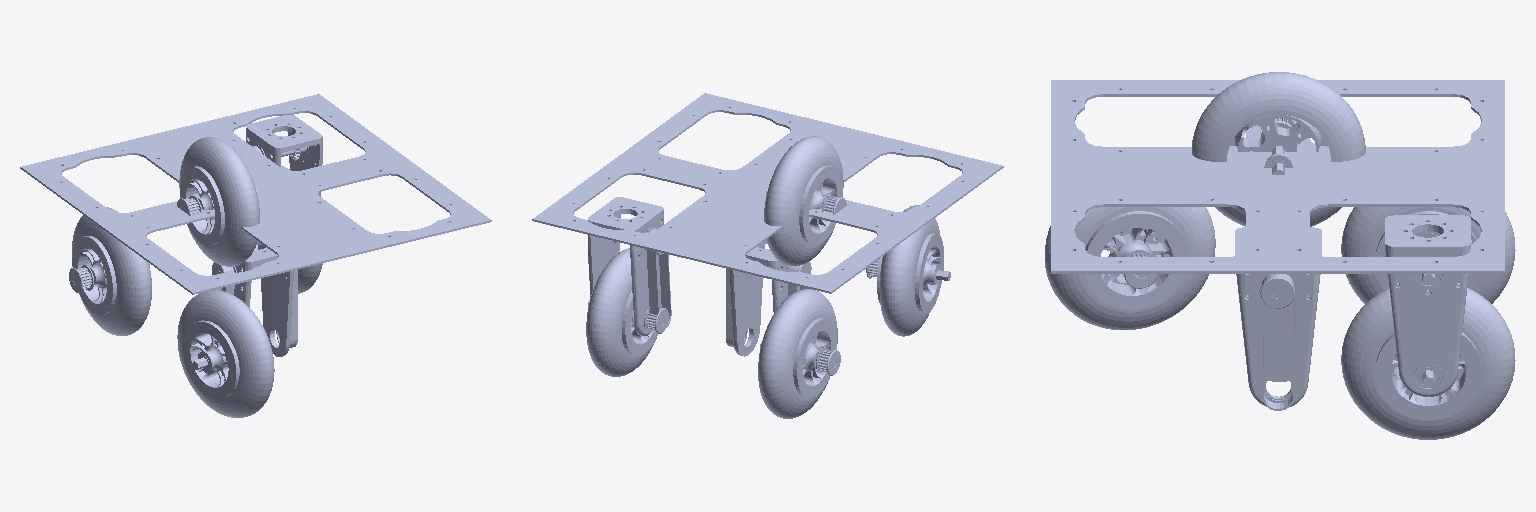
robot.urdf — hermes_robot:
<?xml version="1.0" encoding="utf-8"?>
<!-- This URDF was automatically created by SolidWorks to URDF Exporter! Originally created by [author] ([email redacted]) 
     Commit Version: 1.6.0-4-g7f85cfe  Build Version: 1.6.7995.38578
     For more information, please see http://wiki.ros.org/sw_urdf_exporter -->
<robot
  name="hermes_robot">
  <link
    name="base_link">
    <inertial>
      <origin
        xyz="-0.000556181803337466 0.000570937752360604 0.0435789551996021"
        rpy="0 0 0" />
      <mass
        value="5.7729702362968" />
      <inertia
        ixx="0.0261442275560952"
        ixy="2.83374260607611E-06"
        ixz="3.54056280145004E-10"
        iyy="0.0219026114445638"
        iyz="-3.69571892989752E-09"
        izz="0.0462053263639469" />
    </inertial>
    <visual>
      <origin
        xyz="0 0 0"
        rpy="0 0 0" />
      <geometry>
        <mesh
          filename="package://hermes_robot/meshes/base_link.STL" />
      </geometry>
      <material
        name="">
        <color
          rgba="0.792156862745098 0.819607843137255 0.933333333333333 1" />
      </material>
    </visual>
    <collision>
      <origin
        xyz="0 0 0"
        rpy="0 0 0" />
      <geometry>
        <mesh
          filename="package://hermes_robot/meshes/base_link.STL" />
      </geometry>
    </collision>
  </link>
  <link
    name="Drive1">
    <inertial>
      <origin
        xyz="-0.1420725891101 -0.162134622350807 -0.156070154760362"
        rpy="0 0 0" />
      <mass
        value="0.968782085796601" />
      <inertia
        ixx="0.00424819090788287"
        ixy="0.000405658975873631"
        ixz="-1.33753498051603E-07"
        iyy="0.00239940264366684"
        iyz="5.40490091912558E-08"
        izz="0.00231372951894429" />
    </inertial>
    <visual>
      <origin
        xyz="0 0 0"
        rpy="0 0 0" />
      <geometry>
        <mesh
          filename="package://hermes_robot/meshes/Drive1.STL" />
      </geometry>
      <material
        name="">
        <color
          rgba="0.792156862745098 0.819607843137255 0.933333333333333 1" />
      </material>
    </visual>
    <collision>
      <origin
        xyz="0 0 0"
        rpy="0 0 0" />
      <geometry>
        <mesh
          filename="package://hermes_robot/meshes/Drive1.STL" />
      </geometry>
    </collision>
  </link>
  <joint
    name="Drive1"
    type="continuous">
    <origin
      xyz="0 0 0"
      rpy="0 0 0" />
    <parent
      link="base_link" />
    <child
      link="Drive1" />
    <axis
      xyz="0.97870110149261 0.205290413651375 0" />
    <limit
      lower="0"
      upper="0"
      effort="0"
      velocity="0" />
  </joint>
  <link
    name="Revolve1">
    <inertial>
      <origin
        xyz="-0.141466084457788 -0.161853031131481 -0.0656290075223259"
        rpy="0 0 0" />
      <mass
        value="0.269967968577388" />
      <inertia
        ixx="0.000823214345411263"
        ixy="-2.93067371662363E-05"
        ixz="1.97986047317922E-07"
        iyy="0.000956776012547063"
        iyz="-1.17541609043327E-06"
        izz="0.000432509071635242" />
    </inertial>
    <visual>
      <origin
        xyz="0 0 0"
        rpy="0 0 0" />
      <geometry>
        <mesh
          filename="package://hermes_robot/meshes/Revolve1.STL" />
      </geometry>
      <material
        name="">
        <color
          rgba="0.792156862745098 0.819607843137255 0.933333333333333 1" />
      </material>
    </visual>
    <collision>
      <origin
        xyz="0 0 0"
        rpy="0 0 0" />
      <geometry>
        <mesh
          filename="package://hermes_robot/meshes/Revolve1.STL" />
      </geometry>
    </collision>
  </link>
  <joint
    name="Revolve1"
    type="continuous">
    <origin
      xyz="0 0 0"
      rpy="0 0 0" />
    <parent
      link="base_link" />
    <child
      link="Revolve1" />
    <axis
      xyz="0 0 -1" />
    <limit
      lower="0"
      upper="0"
      effort="0"
      velocity="0" />
  </joint>
  <link
    name="Drive2">
    <inertial>
      <origin
        xyz="-0.144304789295268 0.1635100096225 -0.156070146198233"
        rpy="0 0 0" />
      <mass
        value="0.968781690098536" />
      <inertia
        ixx="0.00433324470774927"
        ixy="8.81932849506355E-06"
        ixz="1.20072511760892E-07"
        iyy="0.00231434829506239"
        iyz="-7.95880198649092E-08"
        izz="0.00231372918275736" />
    </inertial>
    <visual>
      <origin
        xyz="0 0 0"
        rpy="0 0 0" />
      <geometry>
        <mesh
          filename="package://hermes_robot/meshes/Drive2.STL" />
      </geometry>
      <material
        name="">
        <color
          rgba="0.792156862745098 0.819607843137255 0.933333333333333 1" />
      </material>
    </visual>
    <collision>
      <origin
        xyz="0 0 0"
        rpy="0 0 0" />
      <geometry>
        <mesh
          filename="package://hermes_robot/meshes/Drive2.STL" />
      </geometry>
    </collision>
  </link>
  <joint
    name="Drive2"
    type="continuous">
    <origin
      xyz="0 0 0"
      rpy="0 0 0" />
    <parent
      link="base_link" />
    <child
      link="Drive2" />
    <axis
      xyz="-0.99999 -0.0043624 0" />
    <limit
      lower="0"
      upper="0"
      effort="0"
      velocity="0" />
  </joint>
  <link
    name="Revolve2">
    <inertial>
      <origin
        xyz="-0.146618377379889 0.163245089096765 -0.0646604351303308"
        rpy="0 0 0" />
      <mass
        value="0.278169948732177" />
      <inertia
        ixx="0.0008183916496691"
        ixy="-6.36538680400576E-07"
        ixz="4.90295921045357E-08"
        iyy="0.000964166932349003"
        iyz="-8.45617137522346E-08"
        izz="0.000433638035486262" />
    </inertial>
    <visual>
      <origin
        xyz="0 0 0"
        rpy="0 0 0" />
      <geometry>
        <mesh
          filename="package://hermes_robot/meshes/Revolve2.STL" />
      </geometry>
      <material
        name="">
        <color
          rgba="0.792156862745098 0.819607843137255 0.933333333333333 1" />
      </material>
    </visual>
    <collision>
      <origin
        xyz="0 0 0"
        rpy="0 0 0" />
      <geometry>
        <mesh
          filename="package://hermes_robot/meshes/Revolve2.STL" />
      </geometry>
    </collision>
  </link>
  <joint
    name="Revolve2"
    type="continuous">
    <origin
      xyz="0 0 0"
      rpy="0 0 0" />
    <parent
      link="base_link" />
    <child
      link="Revolve2" />
    <axis
      xyz="0 0 -1" />
    <limit
      lower="0"
      upper="0"
      effort="0"
      velocity="0" />
  </joint>
  <link
    name="Drive3">
    <inertial>
      <origin
        xyz="0.140993840623201 0.163504687420311 -0.156070146224578"
        rpy="0 0 0" />
      <mass
        value="0.968781681639634" />
      <inertia
        ixx="0.00433311198628059"
        ixy="1.85931348598485E-05"
        ixz="1.20457318091981E-07"
        iyy="0.00231448100908392"
        iyz="-7.90061289408879E-08"
        izz="0.00231372918054459" />
    </inertial>
    <visual>
      <origin
        xyz="0 0 0"
        rpy="0 0 0" />
      <geometry>
        <mesh
          filename="package://hermes_robot/meshes/Drive3.STL" />
      </geometry>
      <material
        name="">
        <color
          rgba="0.792156862745098 0.819607843137255 0.933333333333333 1" />
      </material>
    </visual>
    <collision>
      <origin
        xyz="0 0 0"
        rpy="0 0 0" />
      <geometry>
        <mesh
          filename="package://hermes_robot/meshes/Drive3.STL" />
      </geometry>
    </collision>
  </link>
  <joint
    name="Drive3"
    type="continuous">
    <origin
      xyz="0 0 0"
      rpy="0 0 0" />
    <parent
      link="base_link" />
    <child
      link="Drive3" />
    <axis
      xyz="-0.99996 -0.0092037 0" />
    <limit
      lower="0"
      upper="0"
      effort="0"
      velocity="0" />
  </joint>
  <link
    name="Revolve3">
    <inertial>
      <origin
        xyz="0.138219414091918 0.163010768557002 -0.0641918308498002"
        rpy="0 0 0" />
      <mass
        value="0.282156119775798" />
      <inertia
        ixx="0.00081891351595226"
        ixy="-1.33814106792158E-06"
        ixz="6.95245348361614E-08"
        iyy="0.000964220705516278"
        iyz="-2.26832453723831E-06"
        izz="0.00043412775603021" />
    </inertial>
    <visual>
      <origin
        xyz="0 0 0"
        rpy="0 0 0" />
      <geometry>
        <mesh
          filename="package://hermes_robot/meshes/Revolve3.STL" />
      </geometry>
      <material
        name="">
        <color
          rgba="0.792156862745098 0.819607843137255 0.933333333333333 1" />
      </material>
    </visual>
    <collision>
      <origin
        xyz="0 0 0"
        rpy="0 0 0" />
      <geometry>
        <mesh
          filename="package://hermes_robot/meshes/Revolve3.STL" />
      </geometry>
    </collision>
  </link>
  <joint
    name="Revolve3"
    type="continuous">
    <origin
      xyz="0 0 0"
      rpy="0 0 0" />
    <parent
      link="base_link" />
    <child
      link="Revolve3" />
    <axis
      xyz="0 0 -1" />
    <limit
      lower="0"
      upper="0"
      effort="0"
      velocity="0" />
  </joint>
  <link
    name="Drive4">
    <inertial>
      <origin
        xyz="0.145813876266853 -0.162036451776305 -0.15607581163648"
        rpy="0 0 0" />
      <mass
        value="0.850687457270781" />
      <inertia
        ixx="0.00414382740979683"
        ixy="0.00016569087872877"
        ixz="-9.40592748834482E-08"
        iyy="0.00223100012543131"
        iyz="2.04937027287629E-07"
        izz="0.00221655864206811" />
    </inertial>
    <visual>
      <origin
        xyz="0 0 0"
        rpy="0 0 0" />
      <geometry>
        <mesh
          filename="package://hermes_robot/meshes/Drive4.STL" />
      </geometry>
      <material
        name="">
        <color
          rgba="0.792156862745098 0.819607843137255 0.933333333333333 1" />
      </material>
    </visual>
    <collision>
      <origin
        xyz="0 0 0"
        rpy="0 0 0" />
      <geometry>
        <mesh
          filename="package://hermes_robot/meshes/Drive4.STL" />
      </geometry>
    </collision>
  </link>
  <joint
    name="Drive4"
    type="continuous">
    <origin
      xyz="0 0 0"
      rpy="0 0 0" />
    <parent
      link="base_link" />
    <child
      link="Drive4" />
    <axis
      xyz="0.99632 0.085731 0" />
    <limit
      lower="0"
      upper="0"
      effort="0"
      velocity="0" />
  </joint>
  <link
    name="Revolve4">
    <inertial>
      <origin
        xyz="0.145504672682003 -0.161915015271395 -0.0646588276523701"
        rpy="0 0 0" />
      <mass
        value="0.278169965817926" />
      <inertia
        ixx="0.000819456084899018"
        ixy="-1.24507806840137E-05"
        ixz="2.97097230639296E-08"
        iyy="0.000963062288932822"
        iyz="-8.99752464071538E-07"
        izz="0.000433668966726285" />
    </inertial>
    <visual>
      <origin
        xyz="0 0 0"
        rpy="0 0 0" />
      <geometry>
        <mesh
          filename="package://hermes_robot/meshes/Revolve4.STL" />
      </geometry>
      <material
        name="">
        <color
          rgba="0.792156862745098 0.819607843137255 0.933333333333333 1" />
      </material>
    </visual>
    <collision>
      <origin
        xyz="0 0 0"
        rpy="0 0 0" />
      <geometry>
        <mesh
          filename="package://hermes_robot/meshes/Revolve4.STL" />
      </geometry>
    </collision>
  </link>
  <joint
    name="Revolve4"
    type="continuous">
    <origin
      xyz="0 0 0"
      rpy="0 0 0" />
    <parent
      link="base_link" />
    <child
      link="Revolve4" />
    <axis
      xyz="0 0 -1" />
    <limit
      lower="0"
      upper="0"
      effort="0"
      velocity="0" />
  </joint>
</robot>

--- What the picture shows (computed from the rendered views, not written in the file) ---
Views: 3 orthographic renders of the robot side by side, from view 1: azimuth 30°, elevation 25°; view 2: azimuth 150°, elevation 25°; view 3: azimuth 270°, elevation 25°.
Robot: hermes_robot — 9 links, 8 joints (8 continuous); root link base_link; default pose: all joints at 0.
Links seen in each view (by area): view 1: base_link, Drive1, Drive4, Drive2, Revolve3, Revolve1, Revolve4, Revolve2; view 2: base_link, Drive2, Drive4, Drive3, Drive1, Revolve3, Revolve4, Revolve1, Revolve2; view 3: base_link, Drive3, Drive1, Drive4, Revolve3, Revolve2, Drive2.
Boxes of the visible links, box(x1,y1,x2,y2) form: base_link: box(20, 94, 491, 294); Drive1: box(177, 290, 274, 417); Drive4: box(177, 137, 259, 266); Drive2: box(69, 207, 151, 335); Revolve3: box(246, 115, 322, 249); Revolve1: box(216, 241, 292, 356); Revolve4: box(212, 241, 279, 354); Revolve2: box(252, 249, 297, 352); base_link: box(532, 93, 1003, 293); Drive2: box(758, 289, 840, 418); Drive4: box(764, 136, 846, 265); Drive3: box(586, 248, 668, 376); Drive1: box(866, 205, 950, 336); Revolve3: box(588, 197, 671, 335); Revolve4: box(731, 240, 811, 356); Revolve1: box(745, 240, 807, 353); Revolve2: box(726, 249, 781, 354); base_link: box(1051, 80, 1504, 273); Drive3: box(1341, 288, 1515, 439); Drive1: box(1045, 207, 1215, 329); Drive4: box(1192, 72, 1365, 226); Revolve3: box(1385, 215, 1471, 396); Revolve2: box(1235, 228, 1321, 410); Drive2: box(1341, 207, 1515, 303).
Bounding box of the posed robot: 0.4953 × 0.5144 × 0.36 m (x, y, z).
Meshes: 9 distinct files referenced, 9 mesh visuals loaded (9 binary STL).